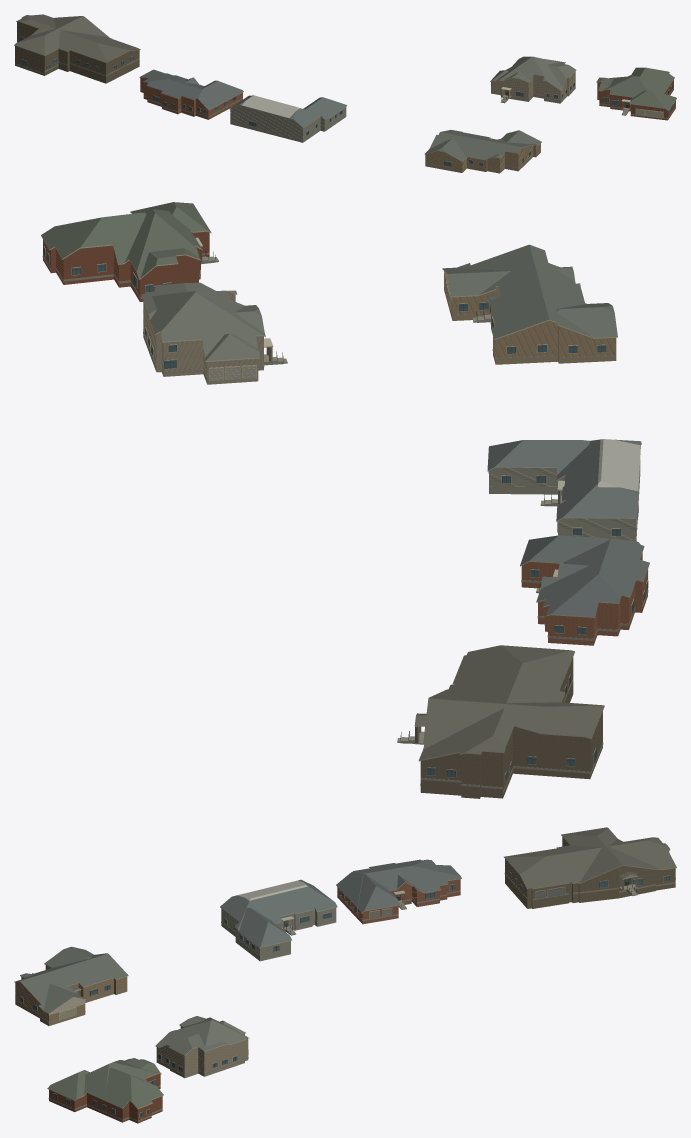
The model's file is site.glb.
3 views of the same model, one above another, from view 1: azimuth 30°, elevation 25°; view 2: azimuth 150°, elevation 25°; view 3: azimuth 270°, elevation 25° (orthographic). The views are drawn at different scales.
Visible parts, largest first — view 1: roof-3415fe97, roof-57234f59, roof-892a3891, roof-119eb630, roof-6b824894, roof-045d51bb; view 2: roof-3415fe97, roof-57234f59, roof-892a3891, roof-6b824894, roof-119eb630, roof-045d51bb; view 3: roof-3415fe97, roof-892a3891, roof-57234f59, roof-119eb630, roof-6b824894, roof-045d51bb.
Boxes of the visible parts, <box> form: roof-3415fe97: <box>14,14,140,83</box>; roof-57234f59: <box>424,130,541,173</box>; roof-892a3891: <box>229,95,347,142</box>; roof-119eb630: <box>139,69,243,119</box>; roof-6b824894: <box>596,67,676,120</box>; roof-045d51bb: <box>490,56,576,103</box>; roof-3415fe97: <box>400,645,604,798</box>; roof-57234f59: <box>442,244,617,364</box>; roof-892a3891: <box>487,439,641,541</box>; roof-6b824894: <box>41,202,215,301</box>; roof-119eb630: <box>520,535,649,645</box>; roof-045d51bb: <box>141,282,284,384</box>; roof-3415fe97: <box>504,827,676,908</box>; roof-892a3891: <box>220,879,337,961</box>; roof-57234f59: <box>14,946,128,1025</box>; roof-119eb630: <box>336,859,461,924</box>; roof-6b824894: <box>47,1058,163,1123</box>; roof-045d51bb: <box>155,1016,249,1078</box>.
Bounding box in the file's own units: 159 × 12.75 × 159.
